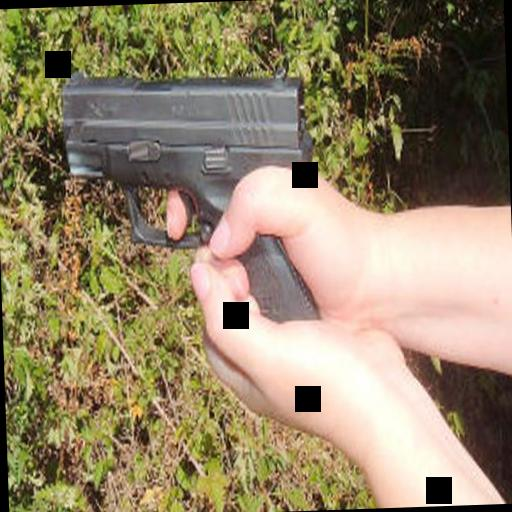Handgun: (56, 53, 321, 330)
